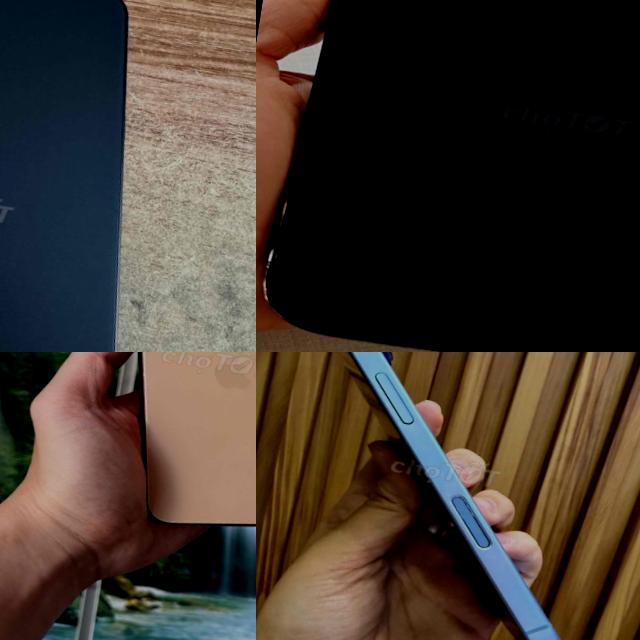gen_11: (85, 352, 256, 552)
gen_12_13: (256, 0, 640, 352)
gen_15: (0, 0, 199, 352)
gen_17: (256, 352, 630, 640)
